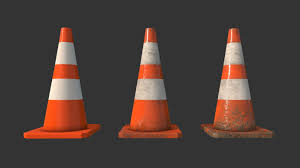cones: (21, 28, 100, 138), (201, 28, 274, 140), (118, 26, 181, 139)
